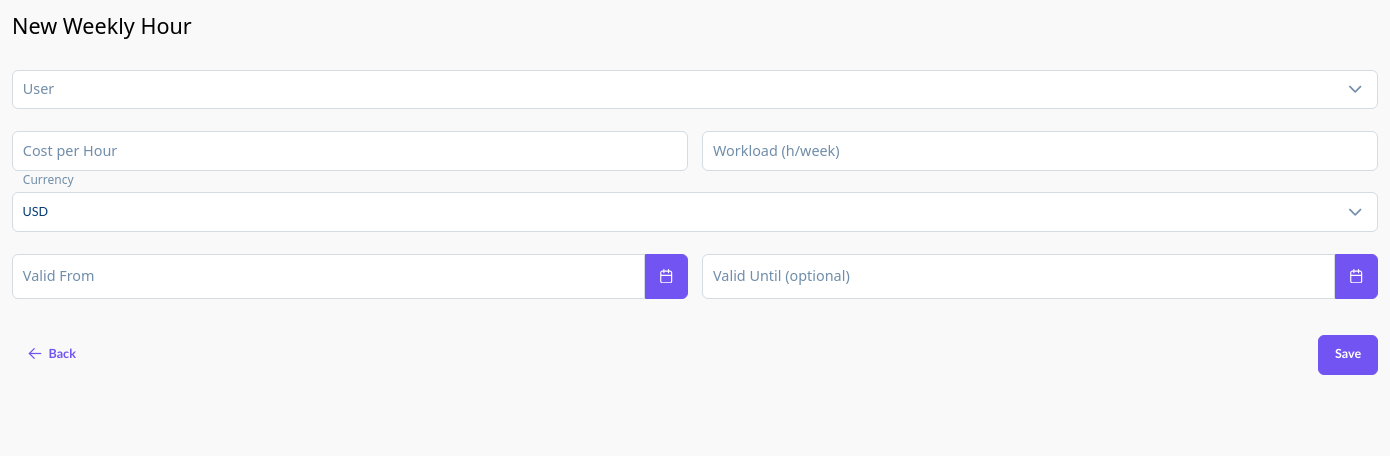
Test: WeeklyHoursForm - Create mode › shows validation error on empty submit
The width and height of the screenshot is (1390, 456).
What coordinates should you click on to do the following:
click the button "Save"
I would click on:
 (1348, 355)
Its box is [1318, 335, 1378, 375].
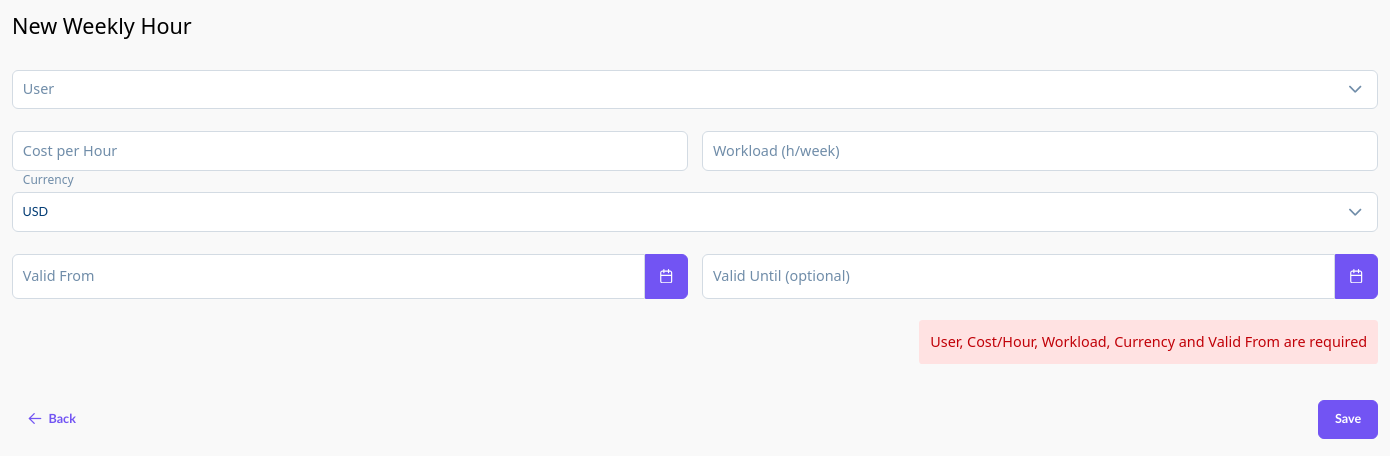
Expected: the text "User, Cost/Hour, Workload, Currency and Valid From are required" is shown, [920, 320, 1378, 364]
